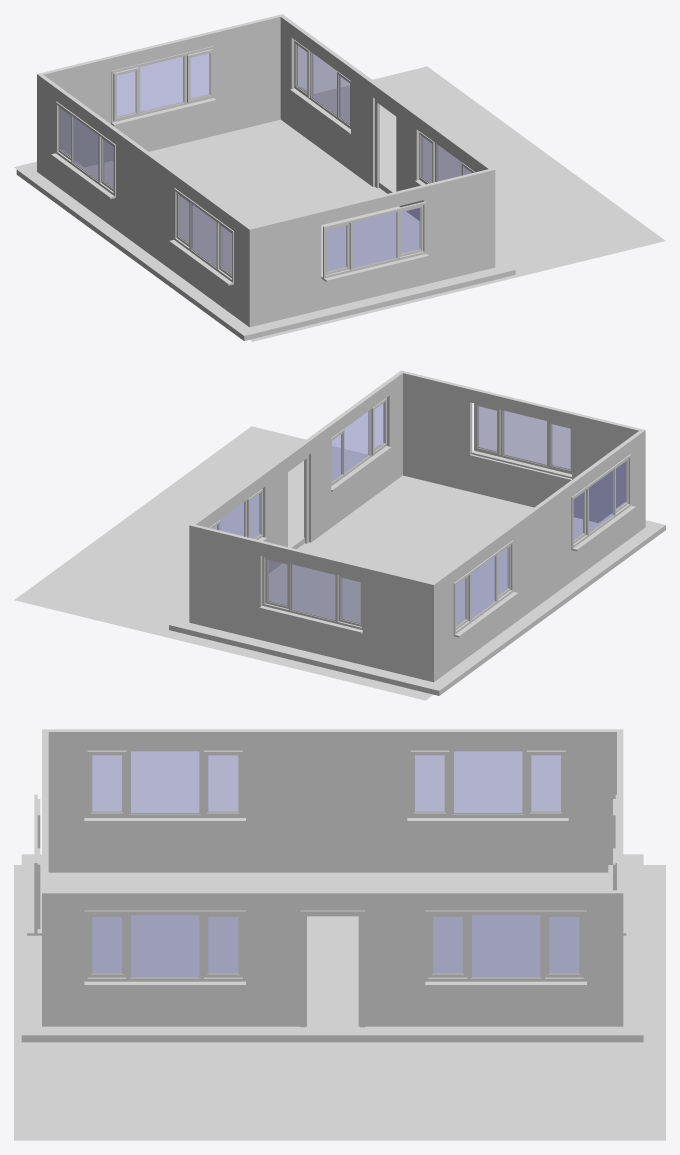
File: joint_hinge_rest.glb
3 renders of one model, top to bottom at view 1: azimuth 30°, elevation 25°; view 2: azimuth 150°, elevation 25°; view 3: azimuth 270°, elevation 25°, orthographic. The views are drawn at different scales.
Visible parts, largest first — view 1: Room, Plane, Baseboard, Window.002, Window.003, Window.004, Window.005, Window, Window.001, DoorFrame; view 2: Room, Plane, Baseboard, Window.003, Window.002, Window.004, Window.005, Window.001, Window, DoorFrame; view 3: Room, Plane, Baseboard, Window, Window.001, Window.004, Window.005, DoorFrame, Window.002, Window.003.
Part boxes in pixels (x1,y1,x2,y2): Room: [37, 14, 495, 327]; Plane: [14, 66, 665, 341]; Baseboard: [16, 164, 515, 340]; Window.002: [321, 201, 429, 282]; Window.003: [111, 46, 216, 126]; Window.004: [51, 101, 115, 199]; Window.005: [169, 188, 233, 285]; Window: [290, 40, 350, 134]; Window.001: [415, 131, 474, 185]; DoorFrame: [375, 99, 396, 191]; Room: [189, 370, 645, 682]; Plane: [14, 426, 597, 700]; Baseboard: [169, 520, 665, 695]; Window.003: [259, 556, 362, 634]; Window.002: [471, 403, 571, 478]; Window.004: [453, 540, 518, 637]; Window.005: [571, 454, 635, 551]; Window.001: [331, 398, 391, 491]; Window: [209, 489, 266, 541]; DoorFrame: [287, 455, 308, 546]; Room: [42, 729, 623, 1026]; Plane: [14, 865, 665, 1140]; Baseboard: [21, 854, 643, 1042]; Window: [425, 910, 586, 987]; Window.001: [84, 910, 245, 987]; Window.004: [407, 749, 568, 823]; Window.005: [84, 749, 245, 823]; DoorFrame: [300, 910, 364, 1027]; Window.002: [27, 794, 41, 935]; Window.003: [608, 794, 626, 935].
Bounding box in the file's own units: 20.47 × 4.8 × 20.19.
